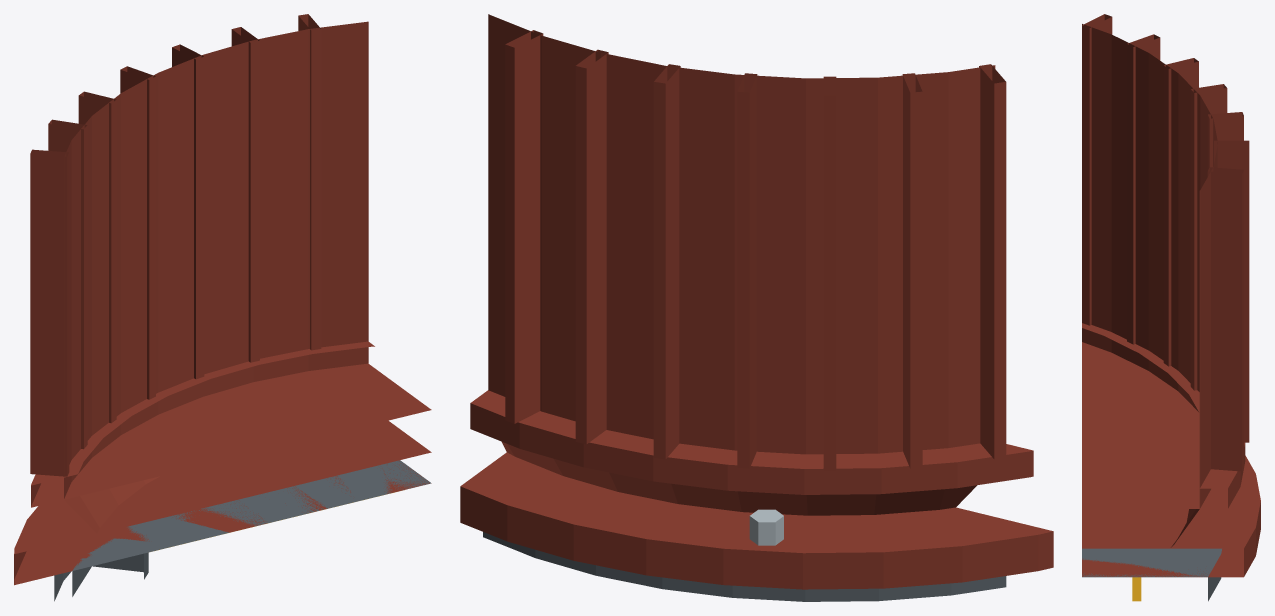
The model's file is cell_59.obj.
3 renders of one model, left to right at view 1: azimuth 30°, elevation 25°; view 2: azimuth 150°, elevation 25°; view 3: azimuth 270°, elevation 25°, orthographic. The views are drawn at different scales.
Size of the model in its own units: 0.9893 by 1 by 0.3944.
